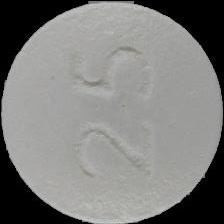50436-9993: (0, 0, 224, 224)
